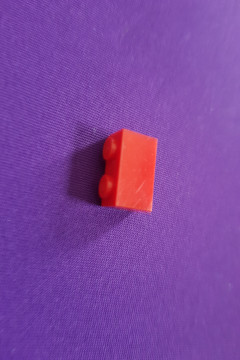1x2 red: (98, 129, 158, 214)
